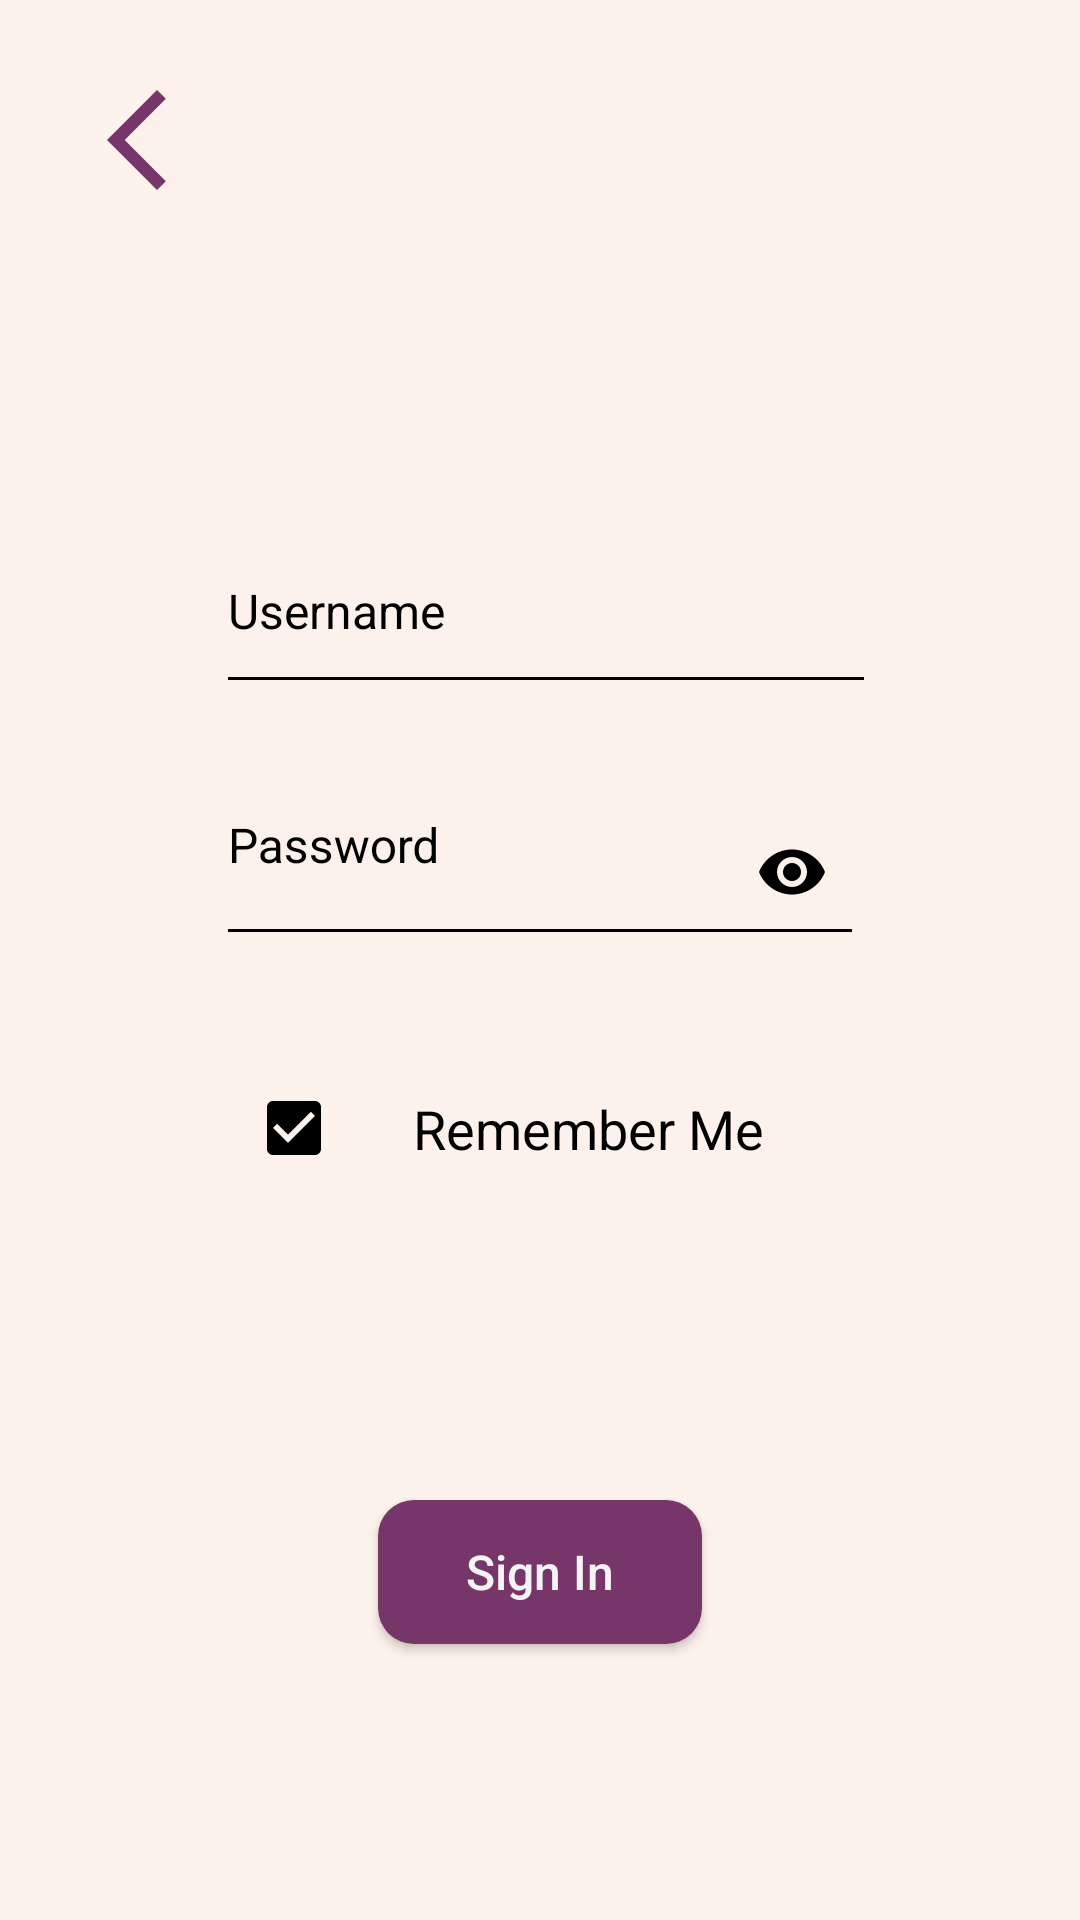

Point at icon controls on the screen. Image size 1080x1920, points as [x,y].
back: [136,140]
